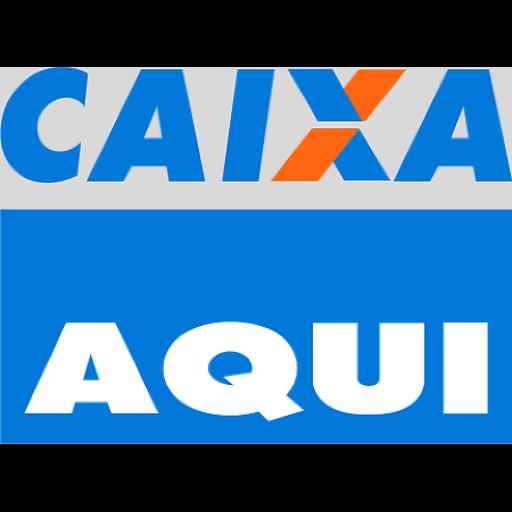Caixa Economica Federal: (0, 67, 512, 444)
